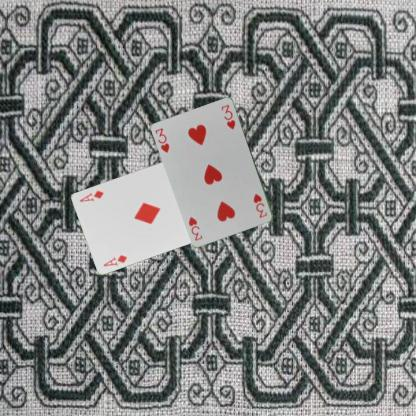3h: (250, 191, 268, 219), (153, 126, 171, 154)
Ad: (101, 252, 128, 267)
